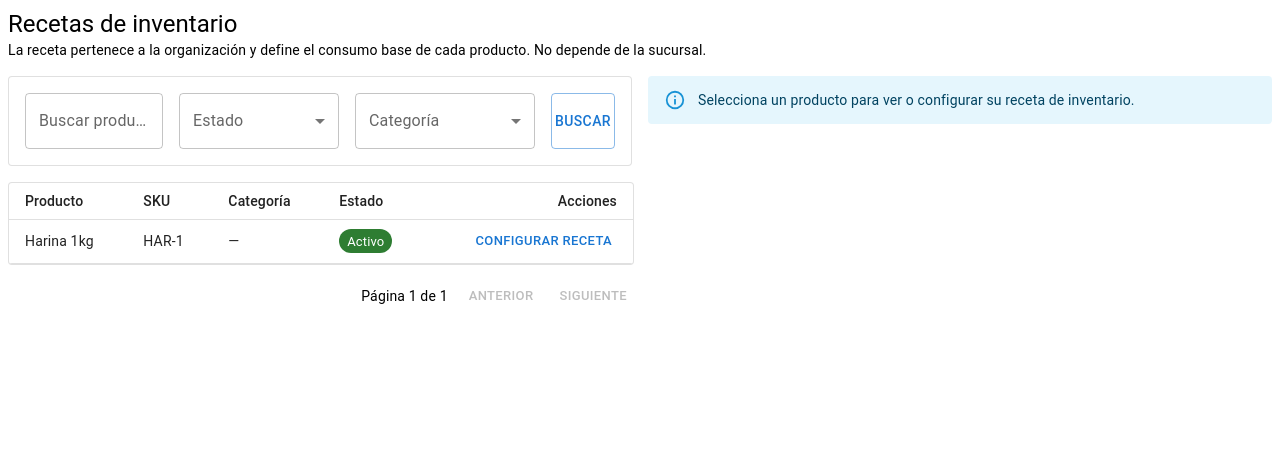
Test case: RecipesPage › blocks saving an ACTIVE recipe with no components
This screenshot has width=1280, height=460.
Check: the text "Harina 1kg" is shown, box left=9, top=220, right=127, bottom=263
Click the button "Configurar receta" at (544, 241), box left=470, top=226, right=617, bottom=257
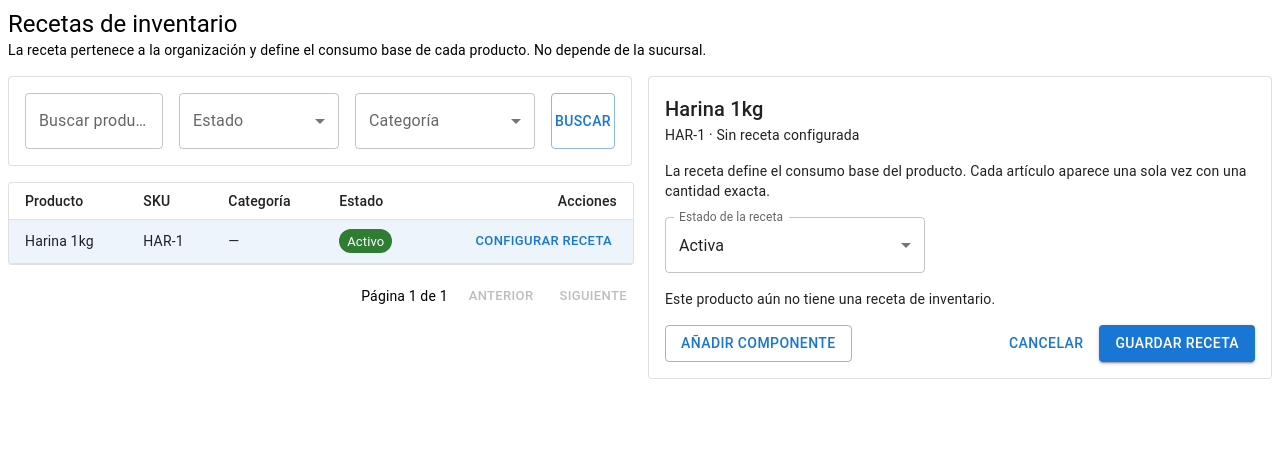
Check: the text "Este producto aún no tiene una receta de inventario." is shown, box left=665, top=291, right=995, bottom=307
Click the button "Guardar receta" at (1177, 343), box left=1099, top=325, right=1255, bottom=362
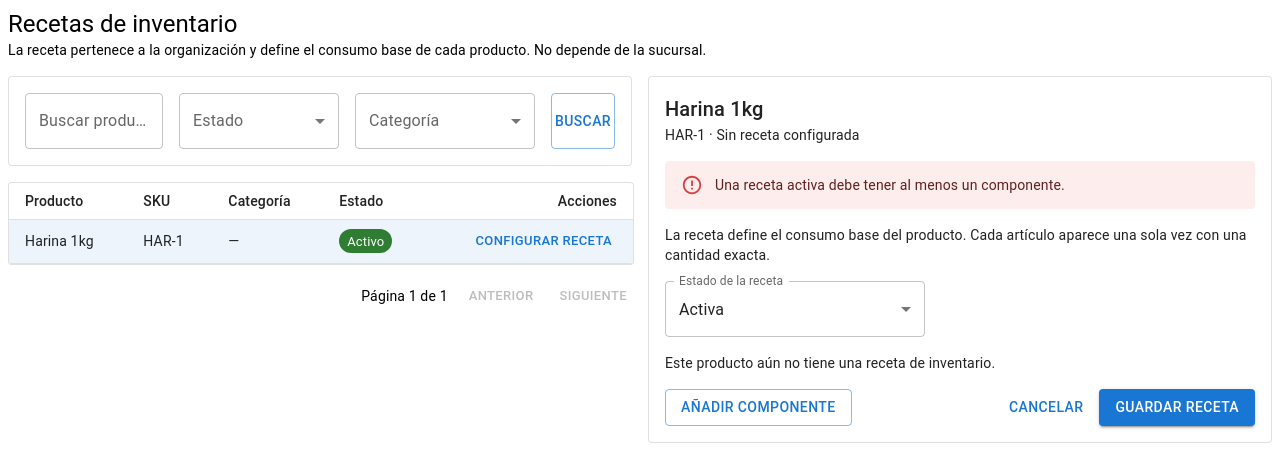
Check: the message reads "Una receta activa debe tener al menos un componente.", box left=715, top=177, right=1065, bottom=193
